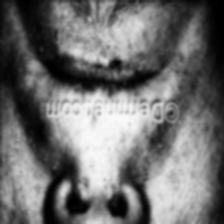Non-Cancerous Skin Condition: (36, 128, 46, 144), (111, 56, 122, 68), (1, 68, 8, 86)
